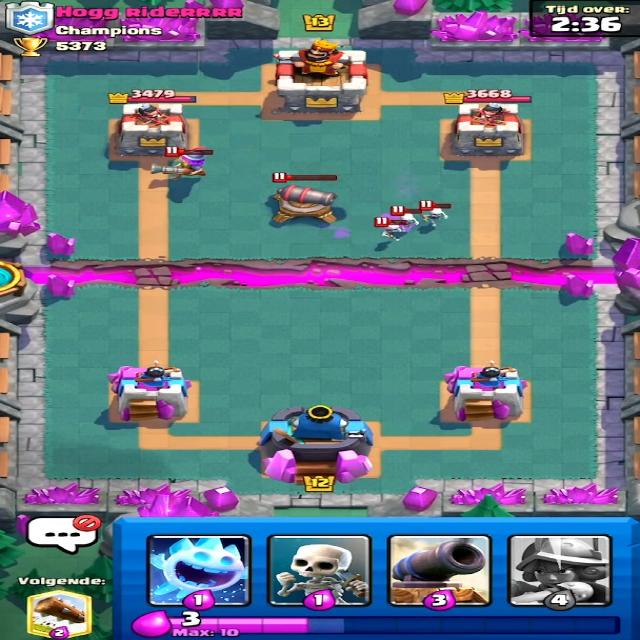Cannon_Card: (384, 535, 502, 605)
Enemy_Cannon_Troop: (266, 186, 344, 229)
Enemy_Musketeer_Troop: (149, 148, 213, 184)
Enemy_Skeleton_Troop: (378, 219, 406, 247), (420, 204, 450, 228)
Ice_Spirit_Card: (146, 534, 250, 604)
Musketeer_Card: (509, 532, 608, 606)
Skeleton_Card: (260, 526, 381, 597)
